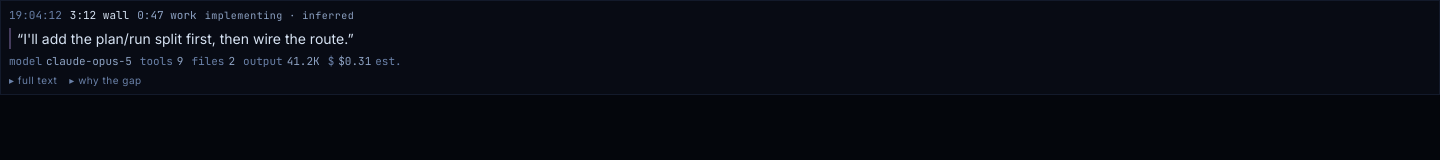
Test: the words are the agent’s, marked as a quotation › expands to the whole block in place, still verbatim
Click the button with test id "interaction-full-text". click: (33, 80)
box: x1=9 y1=73 x2=57 y2=88
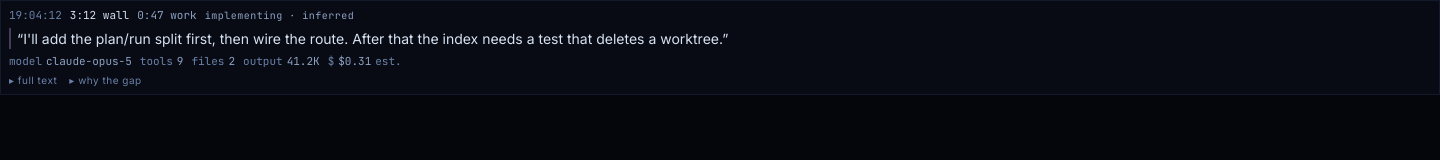
Now the text with test id "interaction-quote" shows "I'll add the plan/run split first, then wire the route. After that the index needs a test that deletes a worktree.", box x1=23 y1=30 x2=722 y2=46
